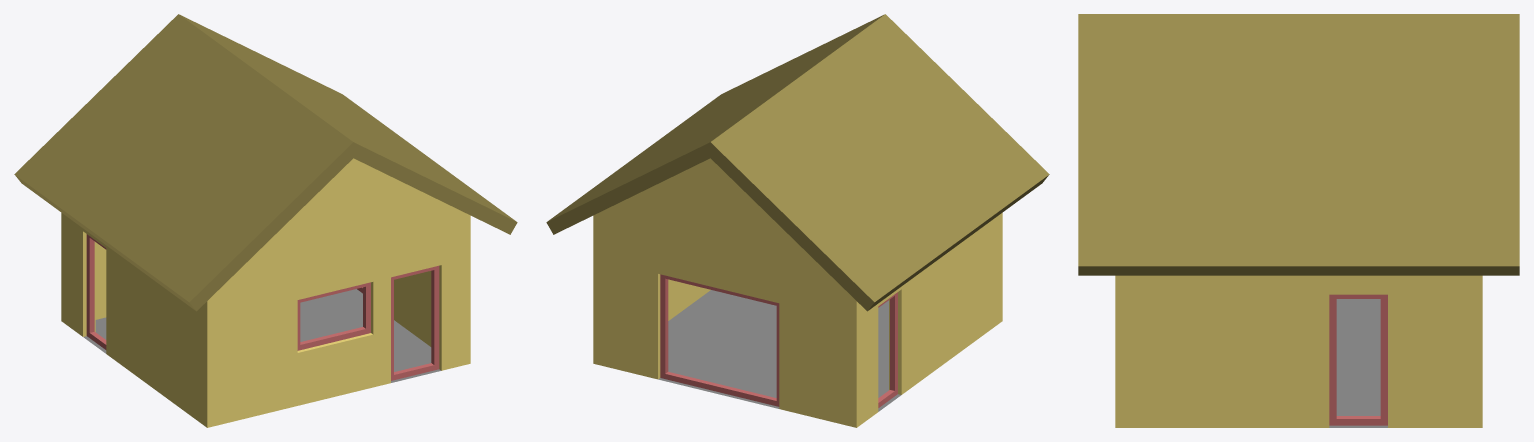
File: result.glb
The picture shows the model from 3 angles, left to right: view 1: azimuth 30°, elevation 25°; view 2: azimuth 150°, elevation 25°; view 3: azimuth 270°, elevation 25°; orthographic projection. The views are drawn at different scales.
Visible parts, largest first — view 1: 9ce398f1-1ee4-4712-b497-f027b1bdea14__undefined (×2), 0957a36f-2887-4642-bc23-0c38333938e8__undefined, a6eb4cb9-454c-431b-9e4d-8bb805bbe9f8__Plane_6, a16d4a25-727c-4a75-b921-42ab365d1b0a__Box, 337589de-27f1-4a40-905a-7eea20a8ca2e__Box_3, dd159bbc-c153-486b-98dc-cce75efa9f49__Box_12; view 2: 9ce398f1-1ee4-4712-b497-f027b1bdea14__undefined (×2), 0957a36f-2887-4642-bc23-0c38333938e8__undefined, a6eb4cb9-454c-431b-9e4d-8bb805bbe9f8__Plane_6, 237f9426-47a2-4ce0-90c3-ad9792f0ceec__Box_9, dd159bbc-c153-486b-98dc-cce75efa9f49__Box_12; view 3: 9ce398f1-1ee4-4712-b497-f027b1bdea14__undefined, 0957a36f-2887-4642-bc23-0c38333938e8__undefined, a6eb4cb9-454c-431b-9e4d-8bb805bbe9f8__Plane_6, 7cf21f9d-0ac8-44d2-a35f-79064d22f90c__Box_15.
Part boxes in pixels (x1,y1,x2,y2): 9ce398f1-1ee4-4712-b497-f027b1bdea14__undefined (×2): (14,14,517,311); 0957a36f-2887-4642-bc23-0c38333938e8__undefined: (61,158,470,427); a6eb4cb9-454c-431b-9e4d-8bb805bbe9f8__Plane_6: (83,289,440,382); a16d4a25-727c-4a75-b921-42ab365d1b0a__Box: (391,265,439,380); 337589de-27f1-4a40-905a-7eea20a8ca2e__Box_3: (297,282,370,350); dd159bbc-c153-486b-98dc-cce75efa9f49__Box_12: (86,234,106,349); 9ce398f1-1ee4-4712-b497-f027b1bdea14__undefined (×2): (546,14,1049,311); 0957a36f-2887-4642-bc23-0c38333938e8__undefined: (593,158,1002,427); a6eb4cb9-454c-431b-9e4d-8bb805bbe9f8__Plane_6: (658,290,901,411); 237f9426-47a2-4ce0-90c3-ad9792f0ceec__Box_9: (660,274,779,406); dd159bbc-c153-486b-98dc-cce75efa9f49__Box_12: (878,292,897,407); 9ce398f1-1ee4-4712-b497-f027b1bdea14__undefined: (1078,14,1519,275); 0957a36f-2887-4642-bc23-0c38333938e8__undefined: (1115,275,1482,427); a6eb4cb9-454c-431b-9e4d-8bb805bbe9f8__Plane_6: (1329,299,1387,427); 7cf21f9d-0ac8-44d2-a35f-79064d22f90c__Box_15: (1329,294,1387,425).
Bounding box in the file's own units: 650 × 500 × 600.
